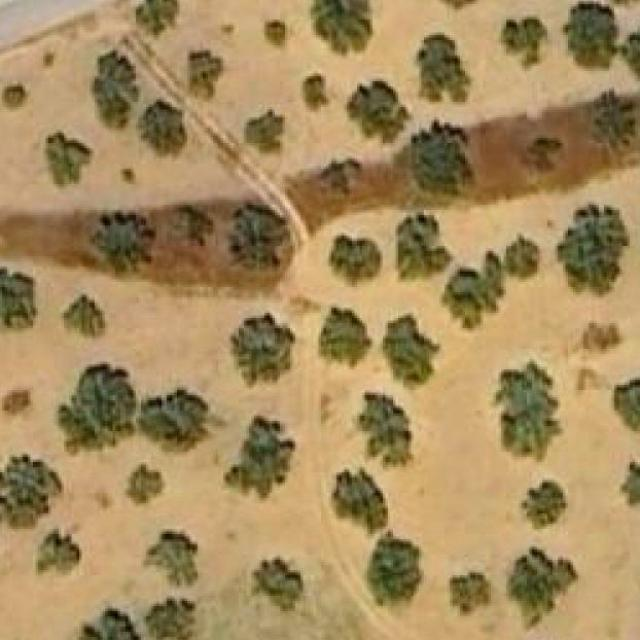Tree: (491, 359, 561, 465), (62, 361, 137, 452), (556, 203, 630, 295), (506, 547, 578, 630), (396, 122, 473, 198), (226, 416, 296, 496), (228, 313, 296, 390), (0, 455, 64, 532), (442, 251, 501, 331), (381, 313, 442, 390), (414, 33, 473, 110), (367, 532, 424, 609), (360, 393, 415, 470), (347, 79, 408, 146), (331, 464, 388, 534), (223, 204, 283, 270), (138, 388, 208, 444), (90, 210, 149, 272), (93, 51, 139, 128), (141, 529, 201, 588), (563, 4, 617, 69), (398, 213, 450, 278), (252, 555, 307, 616), (321, 308, 373, 367), (329, 230, 384, 285), (314, 0, 369, 52), (46, 130, 93, 189), (0, 266, 38, 334), (501, 18, 547, 72), (592, 97, 638, 148), (143, 601, 203, 640), (36, 526, 82, 575), (144, 102, 185, 151), (79, 608, 141, 640), (188, 50, 226, 100), (316, 153, 362, 194), (64, 296, 105, 340), (499, 238, 543, 276), (522, 136, 560, 180), (449, 573, 488, 614), (177, 205, 213, 249), (527, 486, 563, 526), (135, 0, 179, 32), (247, 112, 283, 151), (128, 464, 162, 503), (614, 378, 640, 429), (262, 12, 296, 48), (622, 454, 640, 516), (624, 14, 640, 79), (304, 74, 327, 110), (2, 390, 31, 416), (2, 84, 28, 110)
